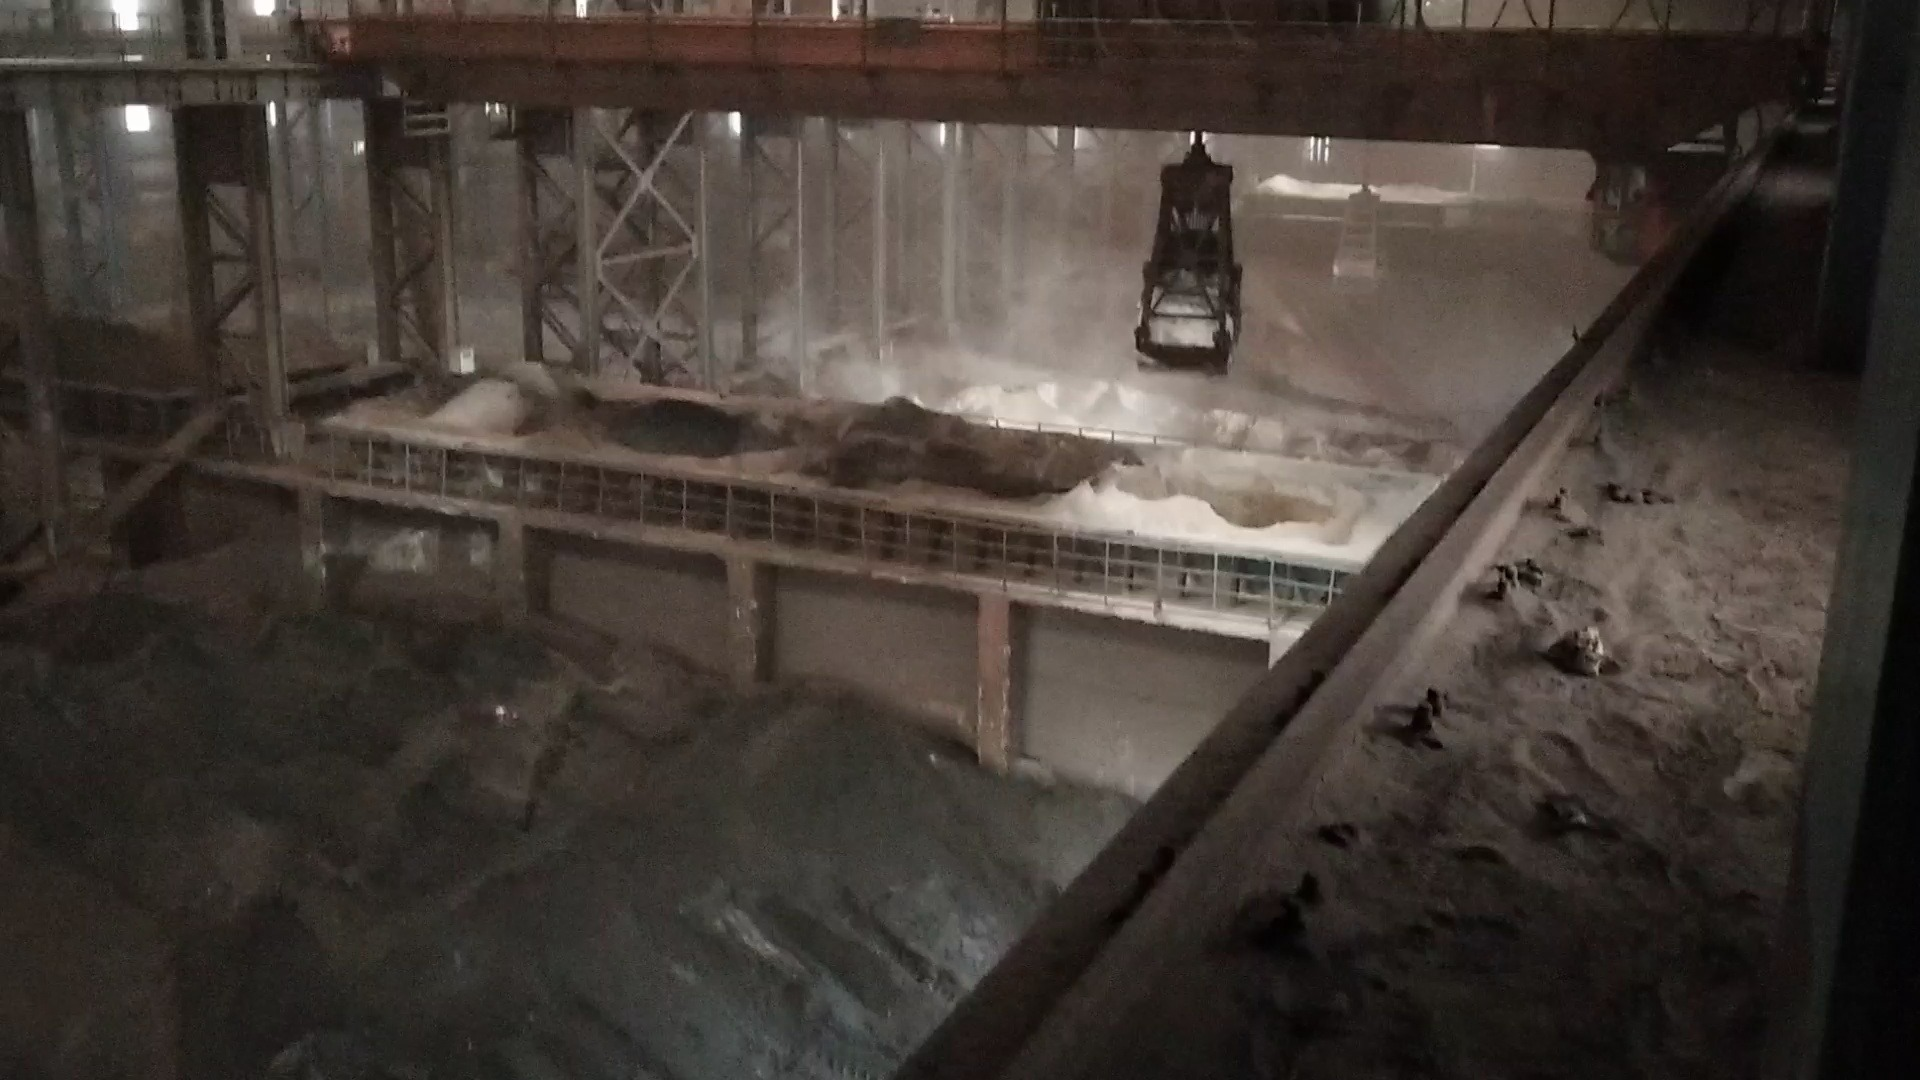dust: (762, 194, 1586, 533)
grab: (1120, 129, 1251, 382)
